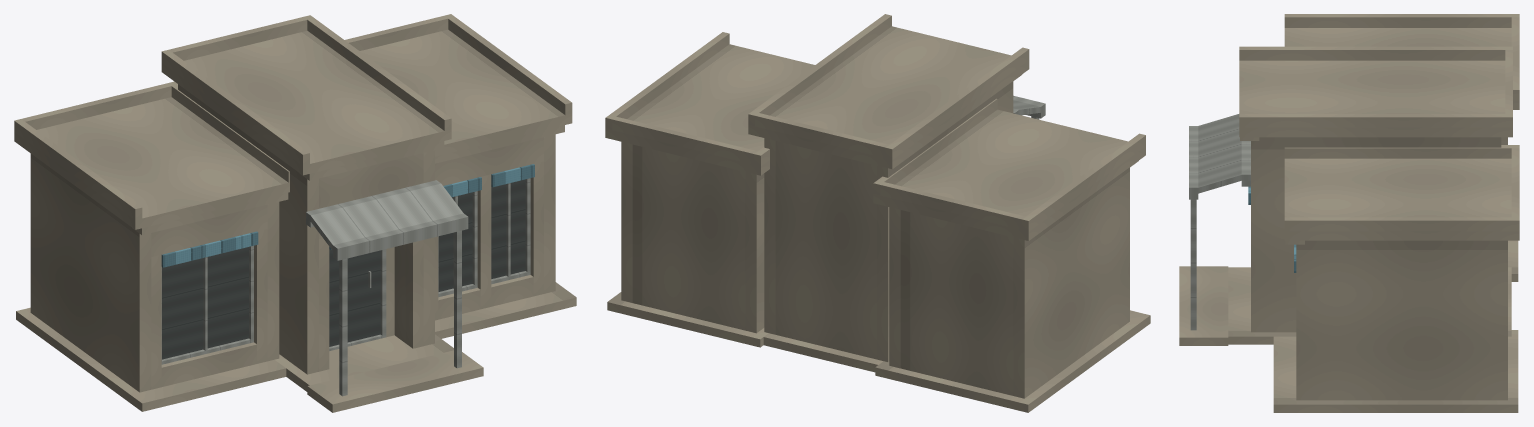
Rendered from tunis.glb.
3 renders of one model, left to right at view 1: azimuth 30°, elevation 25°; view 2: azimuth 150°, elevation 25°; view 3: azimuth 270°, elevation 25°, orthographic. The views are drawn at different scales.
Parts seen in each view (by area): view 1: tunis; view 2: tunis; view 3: tunis.
Boxes of the visible parts, x1,y1,x2,y2 form: tunis: (14,14,576,412); tunis: (605,14,1150,412); tunis: (1179,14,1519,412).
Bounding box in the file's own units: 7.19 × 3.7 × 5.
Materials: 1 (1 with a texture image).
